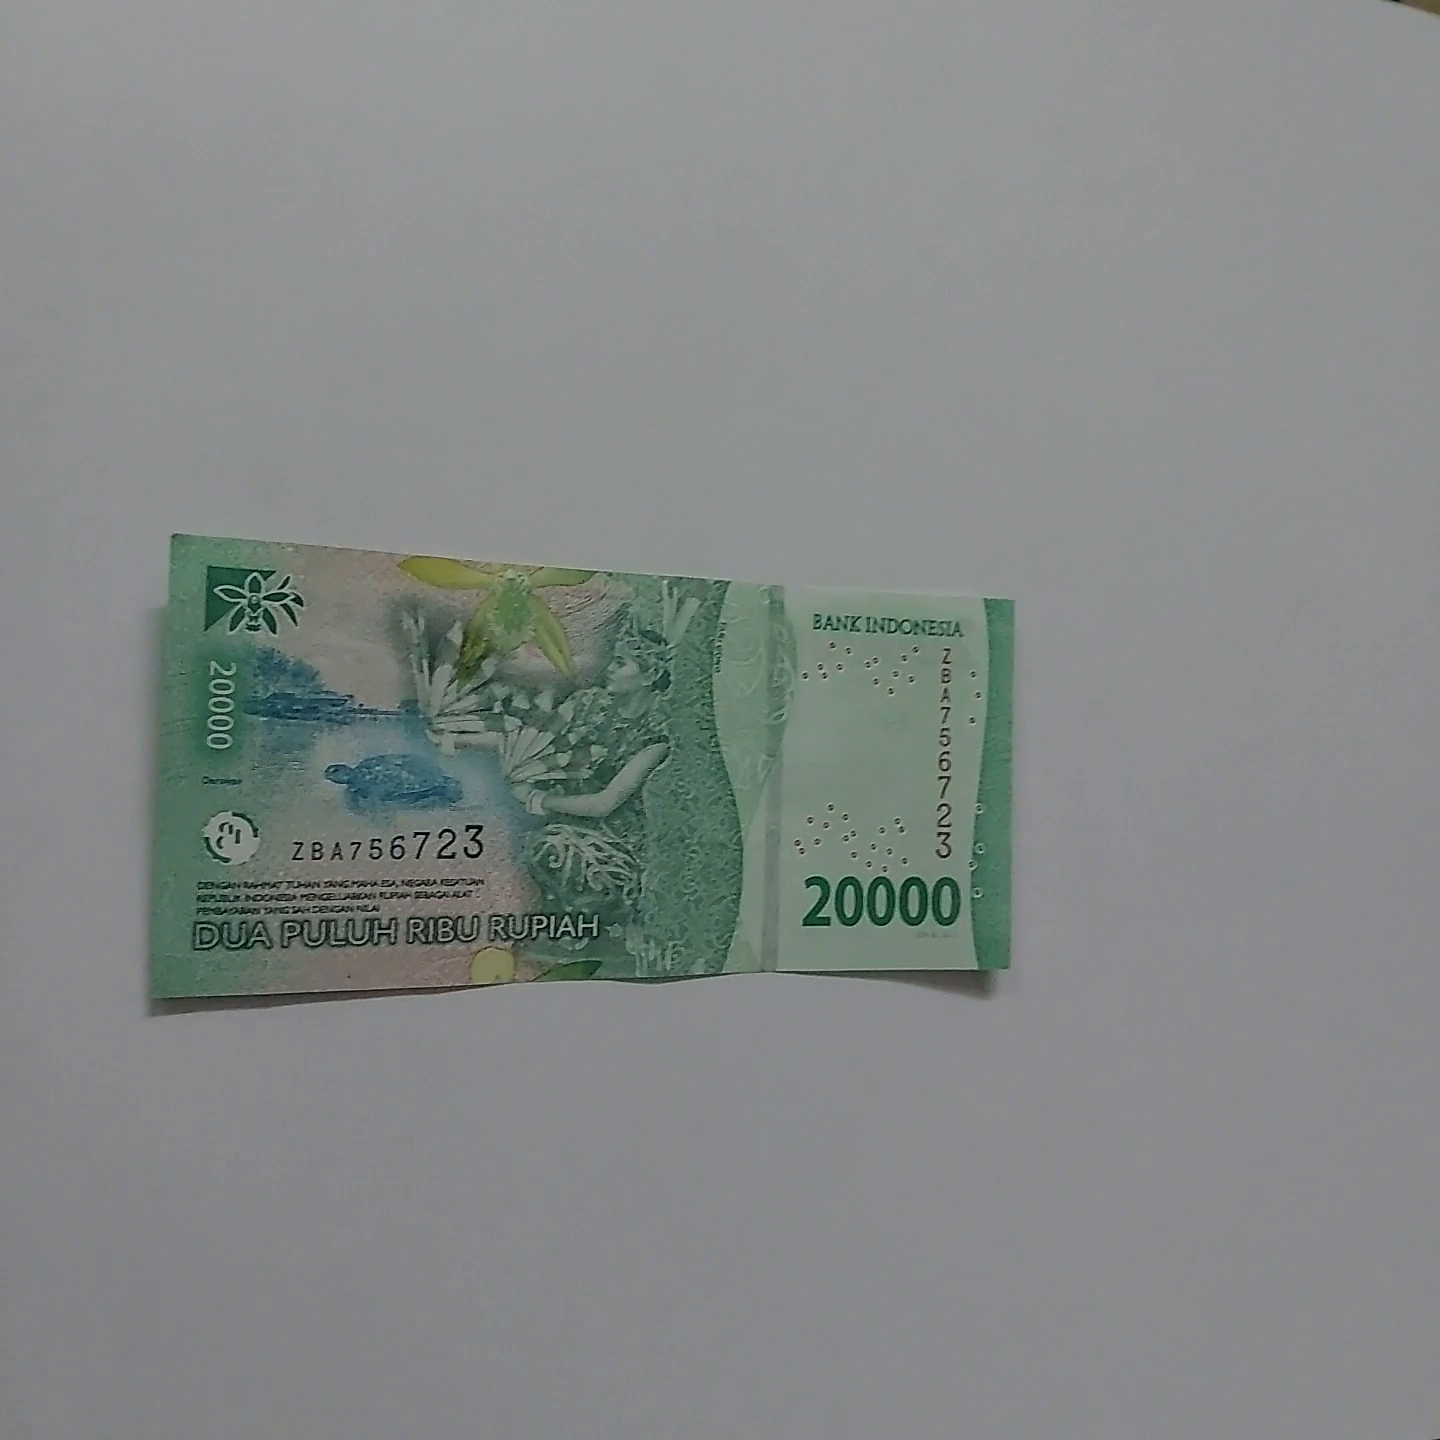20k: (131, 525, 1048, 997)
